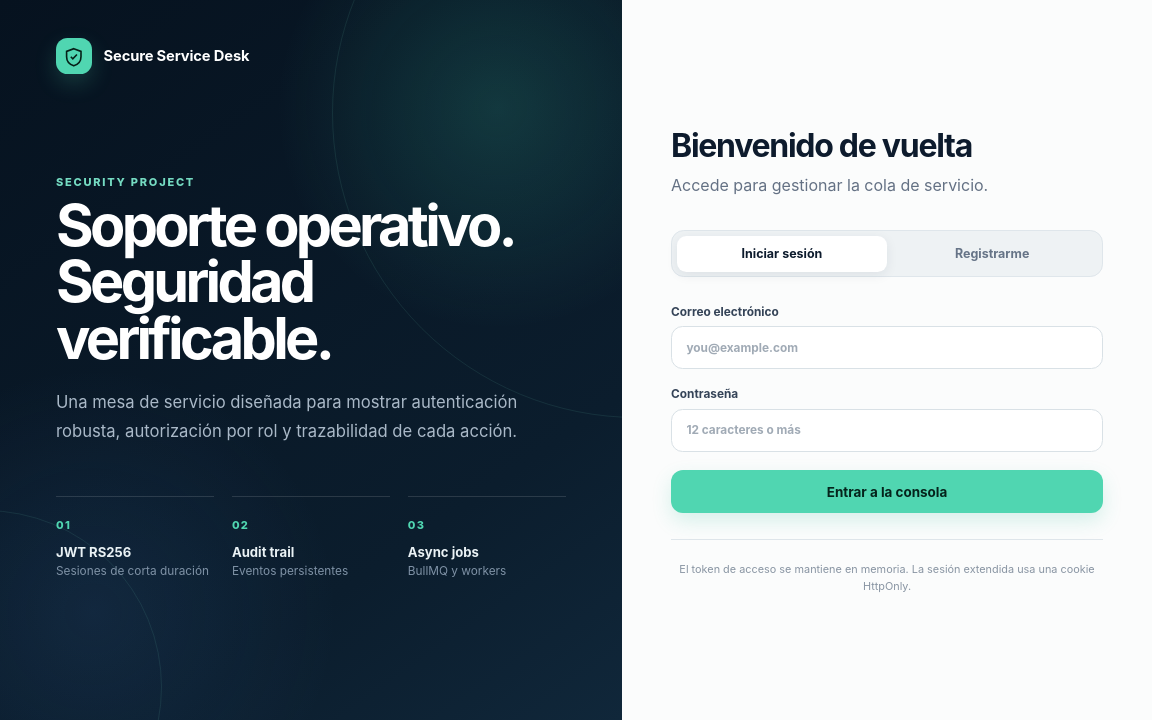
AuthScreen › renders authentication failures as accessible text
This screenshot has width=1152, height=720.
Step 1. Type "user@example.com" into the field labelled "Correo electrónico" → (887, 348), box 671,326 -> 1103,369
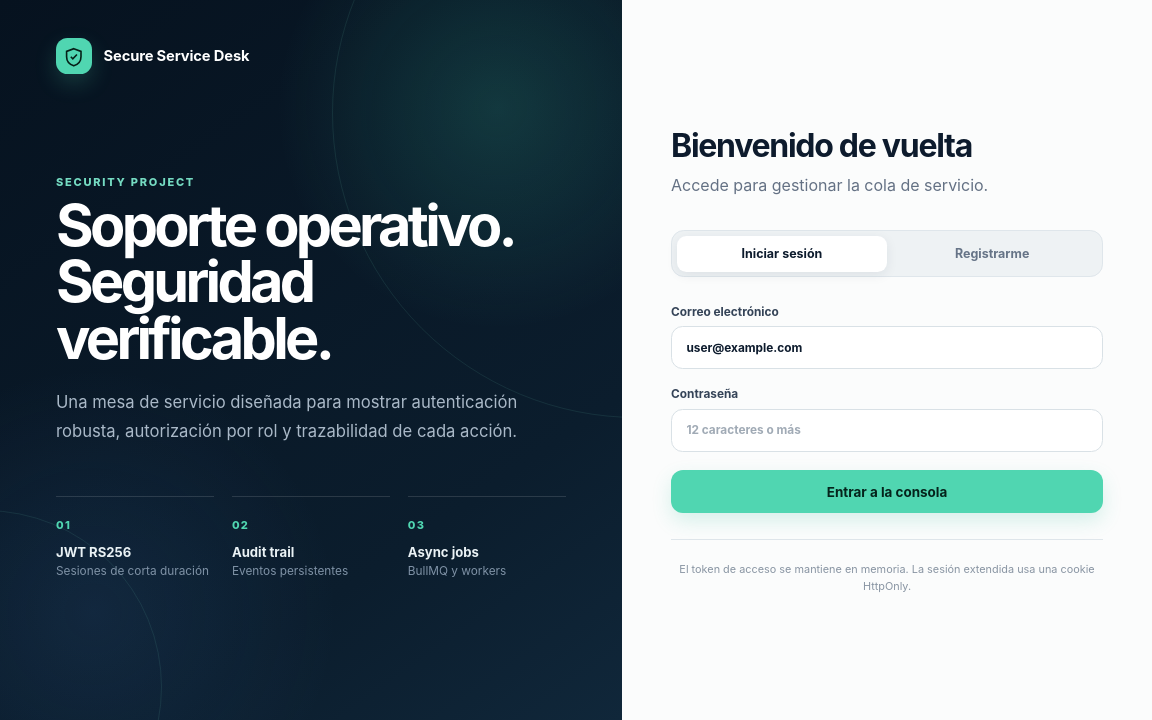
Step 2. Type "Portfolio123" into the password field labelled "Contraseña" → (887, 430), box 671,409 -> 1103,452
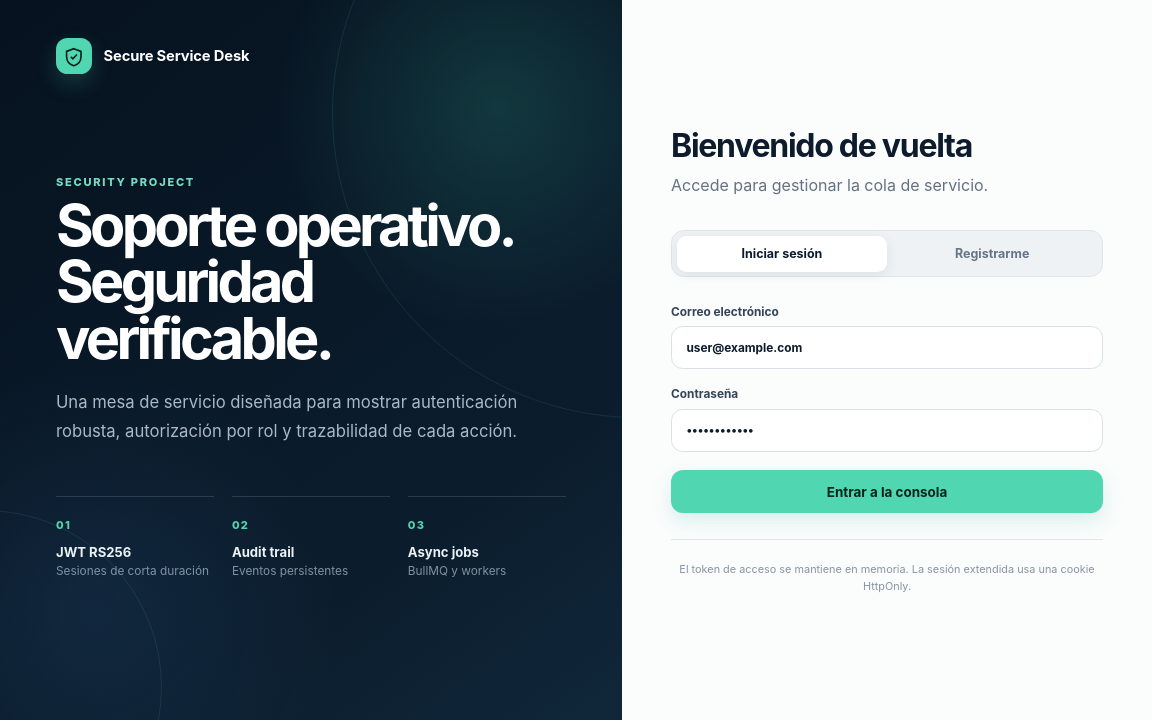
Step 3. Click the button "Entrar a la consola" → (887, 492), box 671,470 -> 1103,513
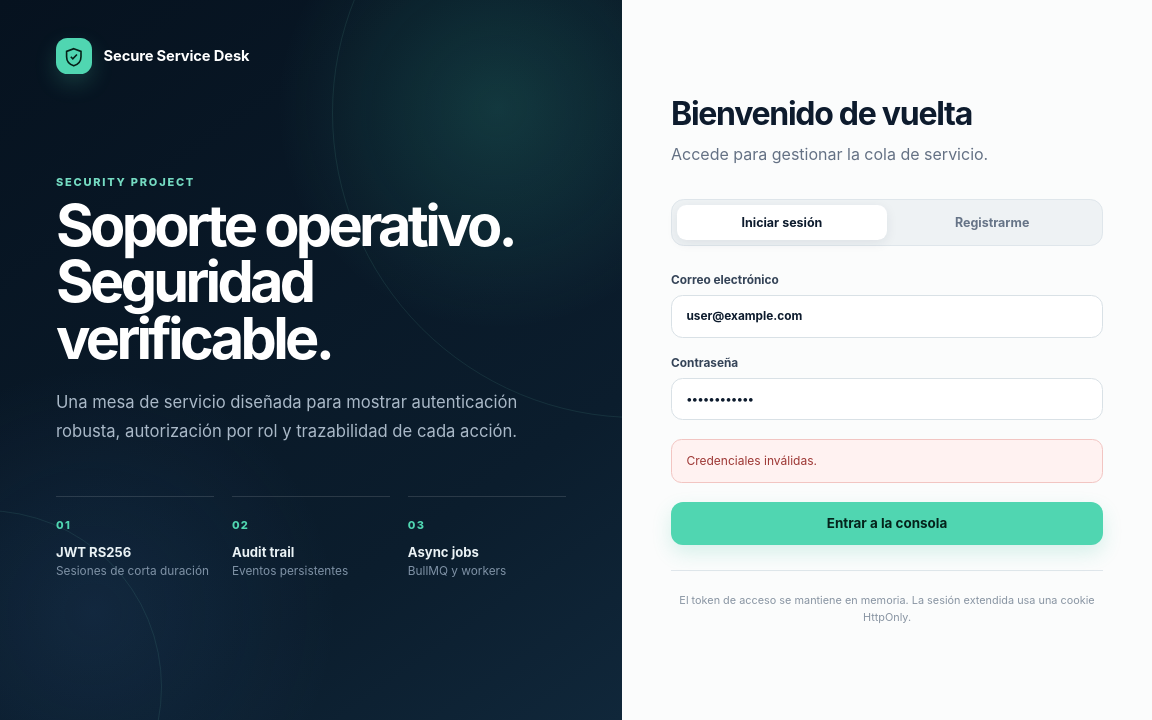
Check: the message reads "Credenciales inválidas.", box 686,453 -> 817,468
